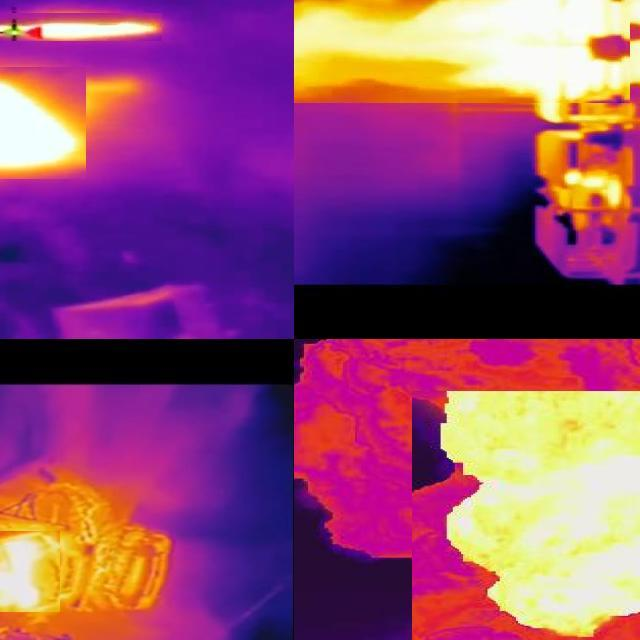fire: (440, 392, 640, 637), (295, 1, 630, 104), (1, 68, 86, 180), (1, 532, 60, 613), (1, 14, 162, 42)
